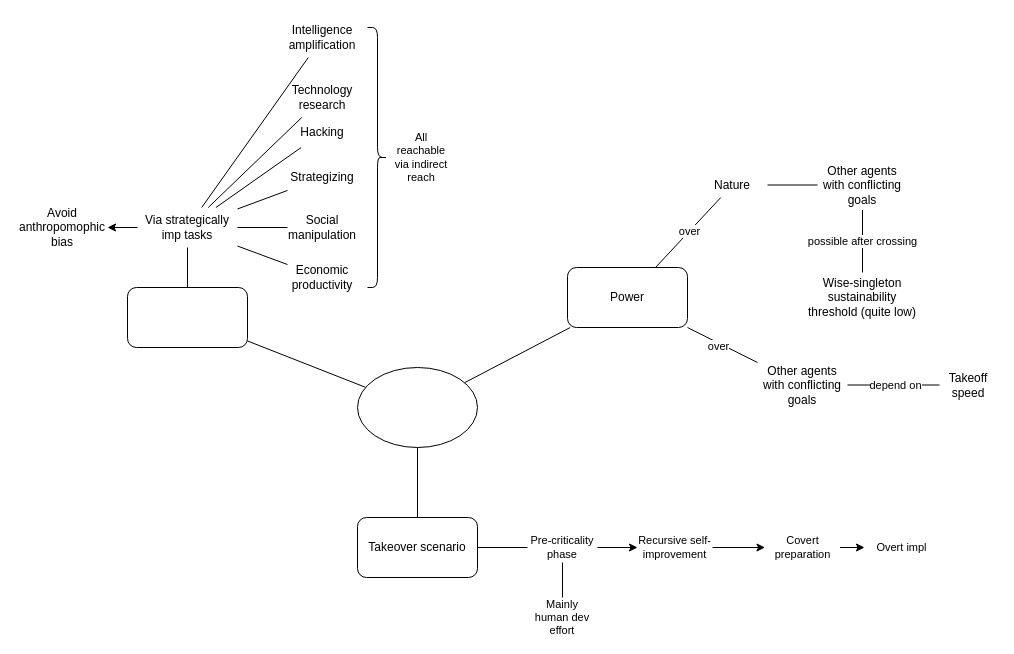
Image size: 1014x654. Some labels were removed from this diagram. Each missing label, with the centre of its shape:
Analysis technique: (187,317)
Superpower of SI: (417,407)
